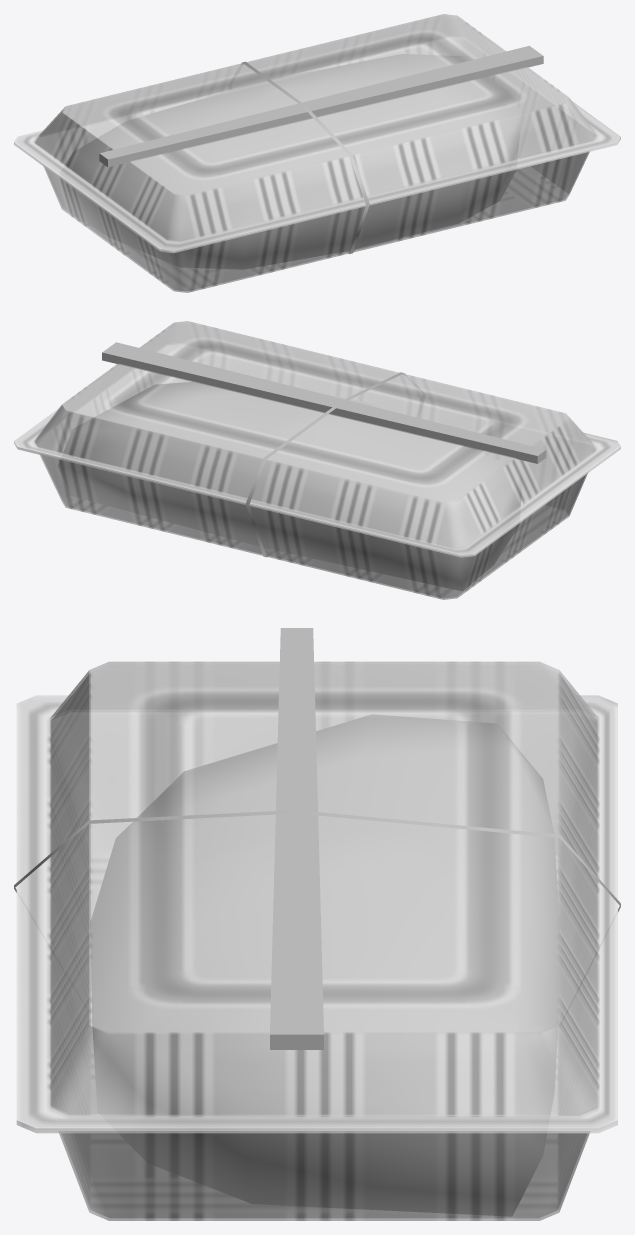
File: jsf_Pack_Okonomiyaki_03.fbx
3 renders of one model, top to bottom at view 1: azimuth 30°, elevation 25°; view 2: azimuth 150°, elevation 25°; view 3: azimuth 270°, elevation 25°, orthographic. The views are drawn at different scales.
Visible parts, largest first — view 1: Lid, Okonomiyaki_02, Pack, DisposableChopsticks_02, DisposableChopsticks_01, RubberBand; view 2: Lid, Okonomiyaki_02, Pack, DisposableChopsticks_01, DisposableChopsticks_02, RubberBand; view 3: Lid, Okonomiyaki_02, Pack, DisposableChopsticks_02, DisposableChopsticks_01, RubberBand.
Boxes of the visible parts, x1,y1,x2,y2 form: Lid: [14, 14, 620, 251]; Okonomiyaki_02: [61, 54, 521, 269]; Pack: [14, 38, 620, 292]; DisposableChopsticks_02: [103, 51, 543, 167]; DisposableChopsticks_01: [99, 45, 535, 163]; RubberBand: [241, 61, 369, 254]; Lid: [14, 321, 620, 556]; Okonomiyaki_02: [58, 382, 522, 590]; Pack: [14, 344, 620, 599]; DisposableChopsticks_01: [102, 347, 541, 463]; DisposableChopsticks_02: [109, 342, 546, 460]; RubberBand: [245, 372, 406, 557]; Lid: [16, 661, 617, 1130]; Okonomiyaki_02: [90, 714, 561, 1216]; Pack: [16, 698, 617, 1220]; DisposableChopsticks_02: [270, 628, 296, 1049]; DisposableChopsticks_01: [297, 628, 323, 1049]; RubberBand: [14, 810, 620, 912].
Size of the model in its own units: 21.3 by 4.73 by 12.62.
